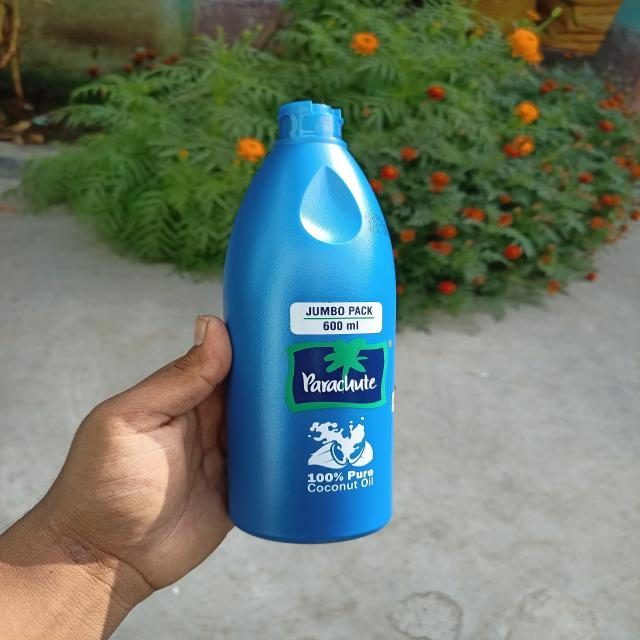parachute_oil: (215, 102, 410, 546)
